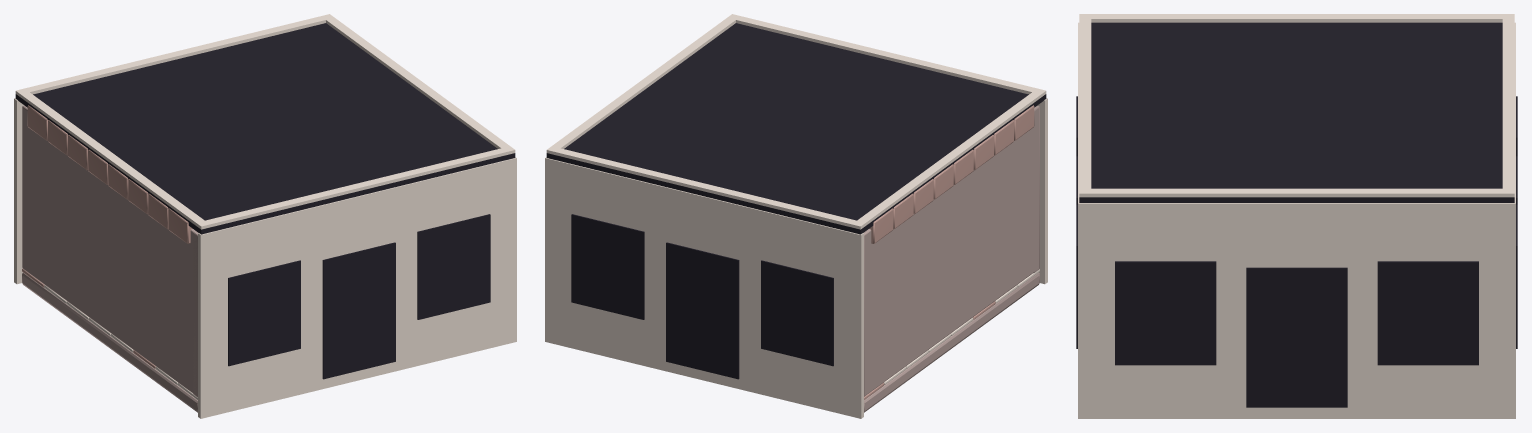
Rendered from bld.pharmacy.glb.
3 views of the same model, side by side, from view 1: azimuth 30°, elevation 25°; view 2: azimuth 150°, elevation 25°; view 3: azimuth 270°, elevation 25° (orthographic). The views are drawn at different scales.
Visible parts, largest first — view 1: roof, interior; view 2: roof, interior; view 3: roof.
Part boxes in pixels (x1,y1,x2,y2): roof: (14, 14, 516, 418); interior: (22, 105, 198, 412); roof: (545, 14, 1047, 418); interior: (863, 105, 1039, 412); roof: (1076, 14, 1517, 418).
Size of the model in its own units: 6.42 by 3.71 by 6.6.
